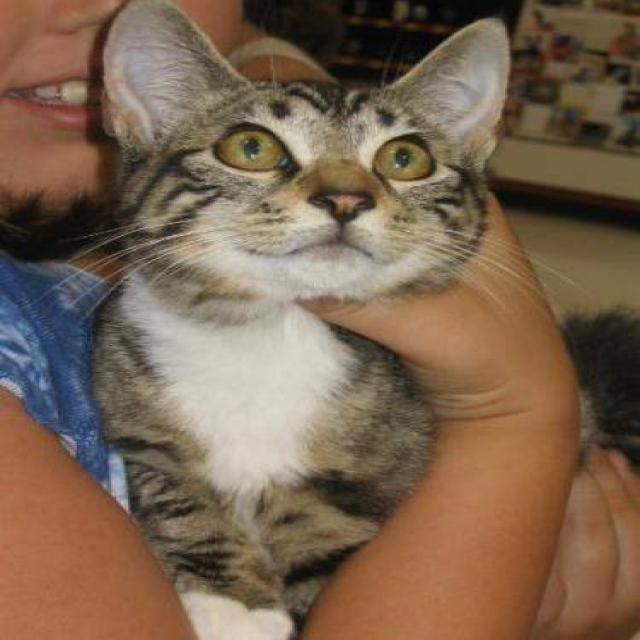Cat: (89, 0, 544, 353)
